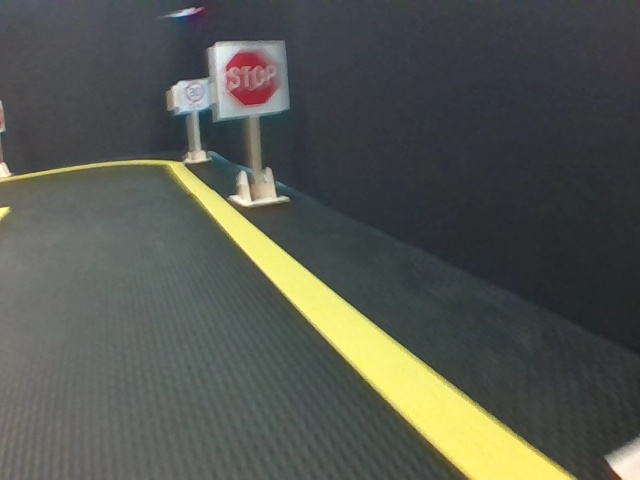30: (177, 80, 209, 111)
stop: (212, 43, 289, 113)
